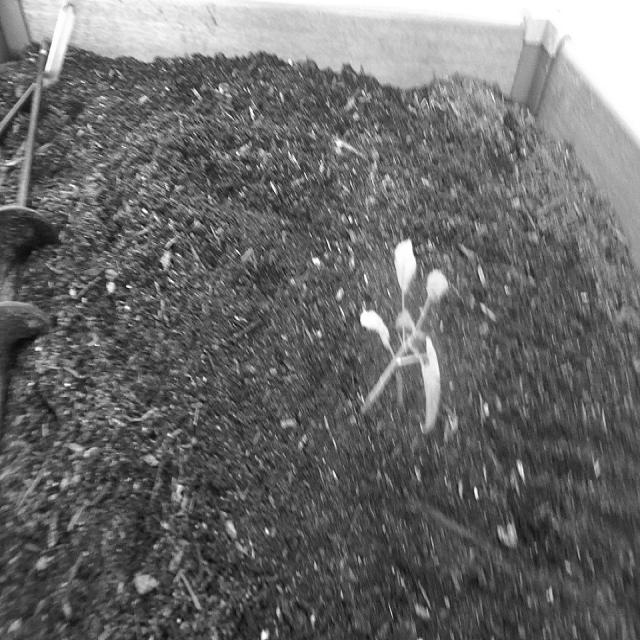Healthy: (352, 209, 462, 476)
